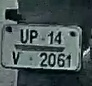0: (47, 52, 57, 68)
1: (65, 52, 73, 70), (47, 30, 55, 46)
2: (38, 50, 48, 68)
4: (54, 30, 63, 46)
6: (56, 51, 66, 68)
P: (29, 28, 39, 44)
U: (18, 28, 30, 43)
V: (11, 49, 21, 66)
